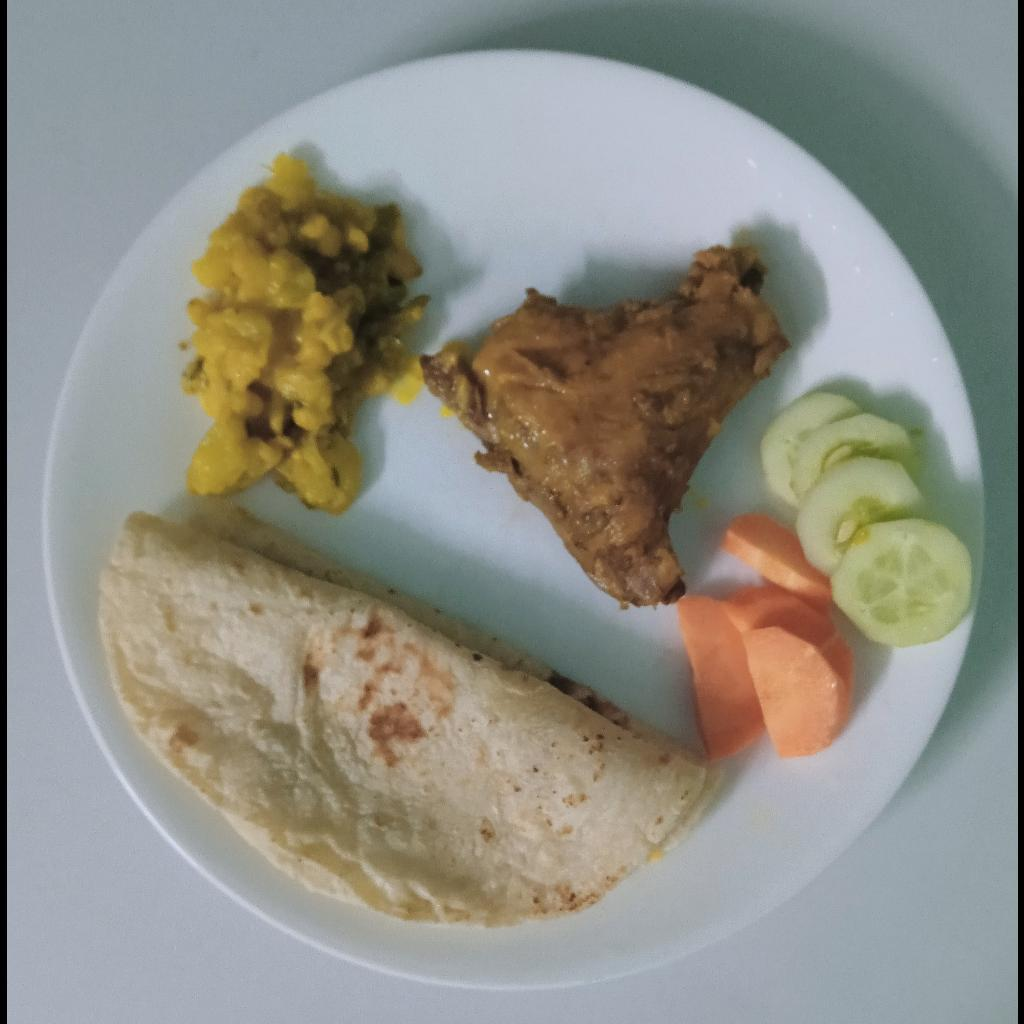carrot: (673, 515, 856, 760)
chicken: (415, 245, 784, 609)
cucumber: (759, 389, 971, 647)
lau: (178, 155, 429, 513)
ruti: (99, 495, 724, 926)
